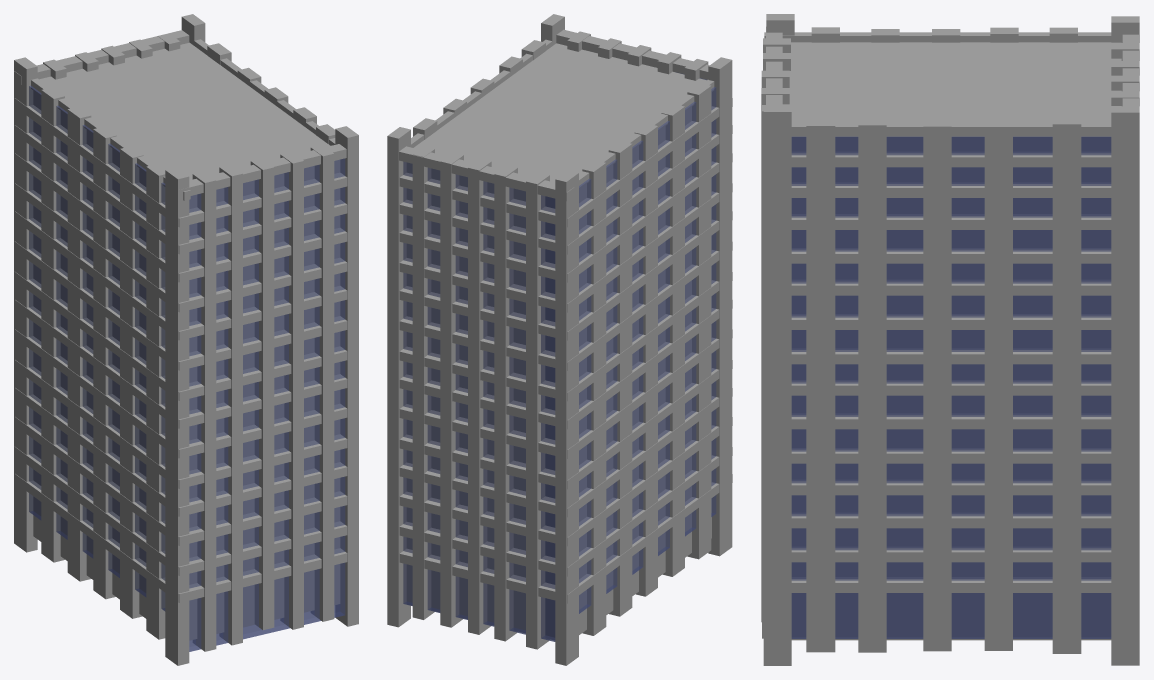
The model's file is buildingwide.fbx.
3 views of the same model, side by side, from view 1: azimuth 30°, elevation 25°; view 2: azimuth 150°, elevation 25°; view 3: azimuth 270°, elevation 25° (orthographic). The views are drawn at different scales.
Visible parts, largest first — view 1: pCube74; view 2: pCube74; view 3: pCube74.
Boxes of the visible parts, x1,y1,x2,y2 form: pCube74: (14, 14, 358, 665); pCube74: (387, 14, 732, 665); pCube74: (761, 14, 1139, 665).
Bounding box in the file's own units: 1.63 × 4.22 × 2.62.
